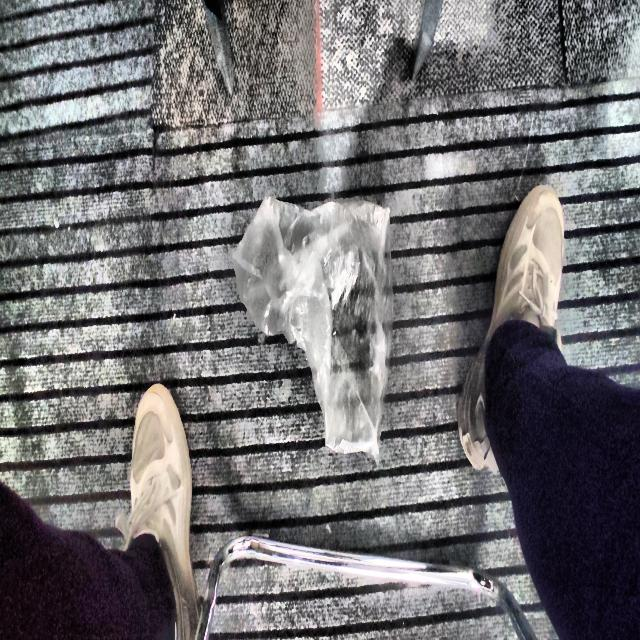plastic bag: (232, 197, 394, 458)
